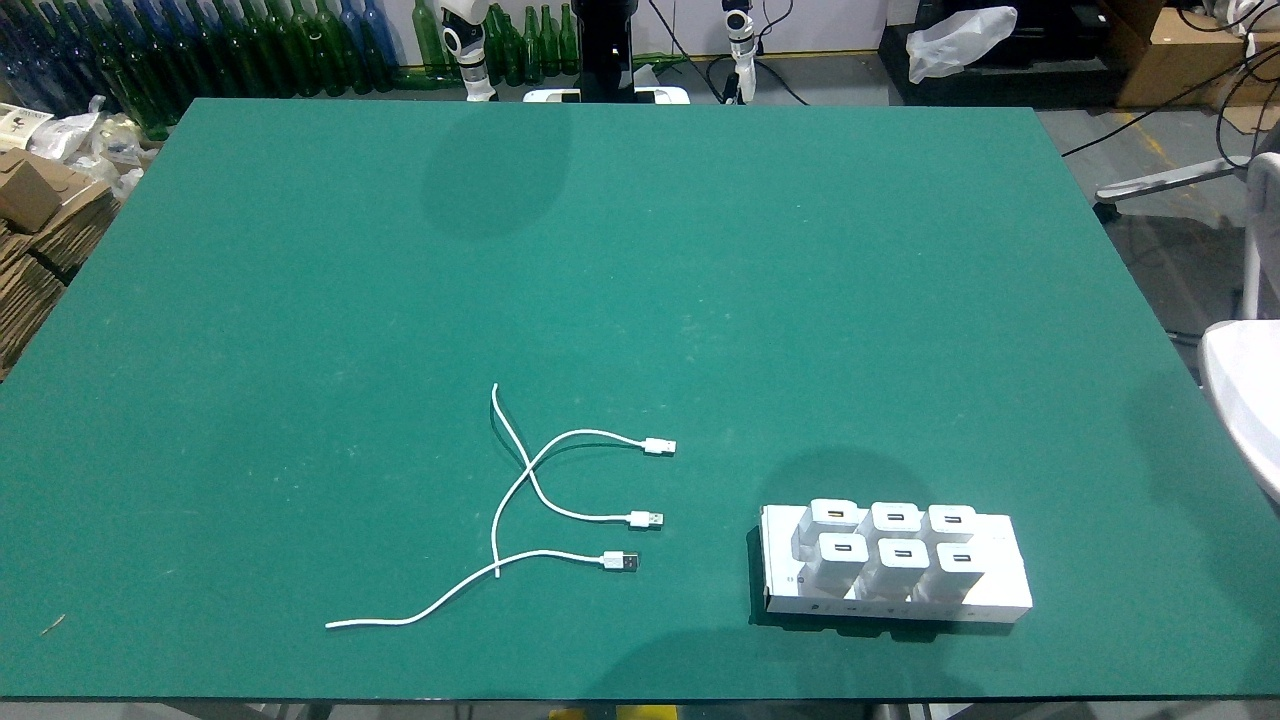usb_a_plug: (630, 436, 679, 455), (616, 510, 665, 528), (590, 551, 639, 569)
